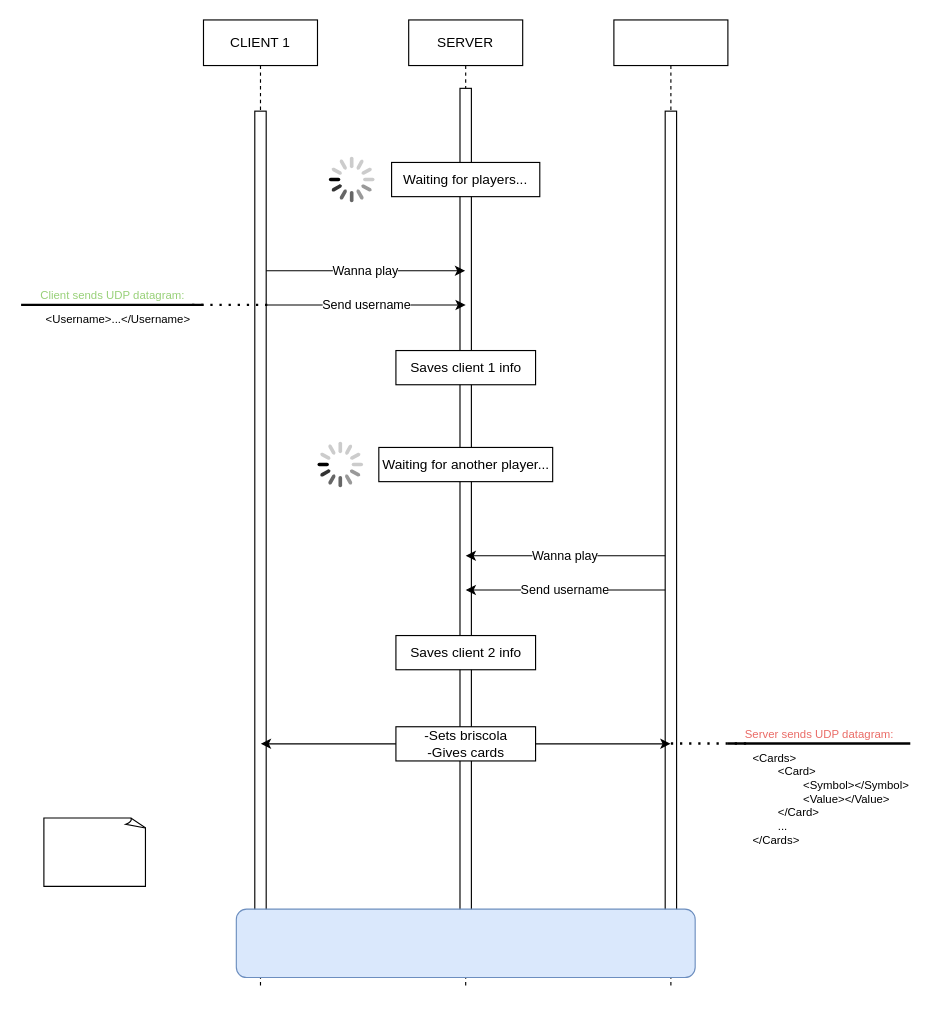
Some shapes in this 931 by 1009 pixel diagram are drawn without their labels. The box of each missing label's shape, as (x1, y1, x2, y2) in pixels:
CLIENT 2: (613, 19, 728, 989)
Game starts: (235, 908, 695, 978)
TO DO: implement rooms: (43, 817, 146, 886)
